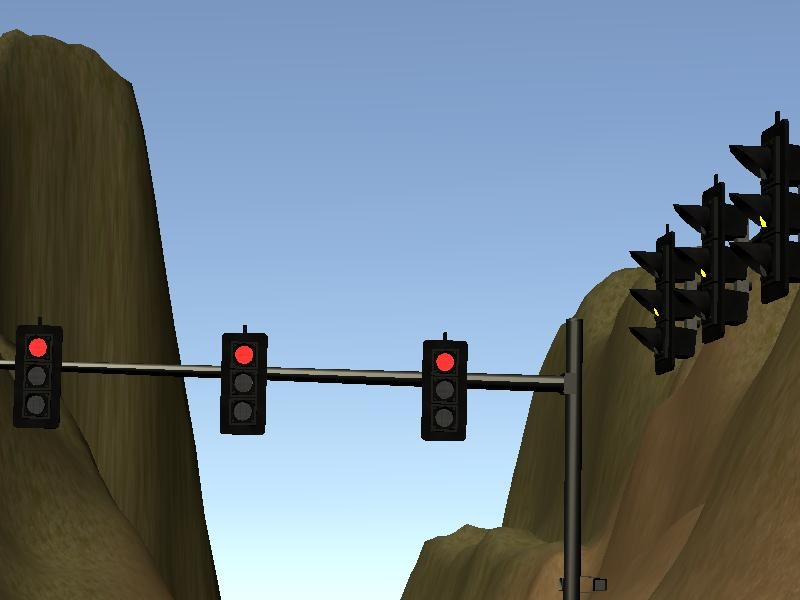RED: (219, 333, 266, 435), (419, 339, 466, 441), (15, 323, 62, 425)
